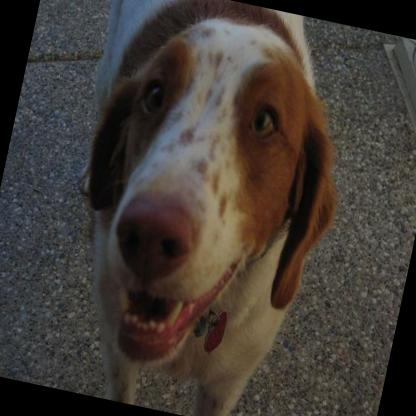Brittany_spaniel: (33, 0, 374, 416)
